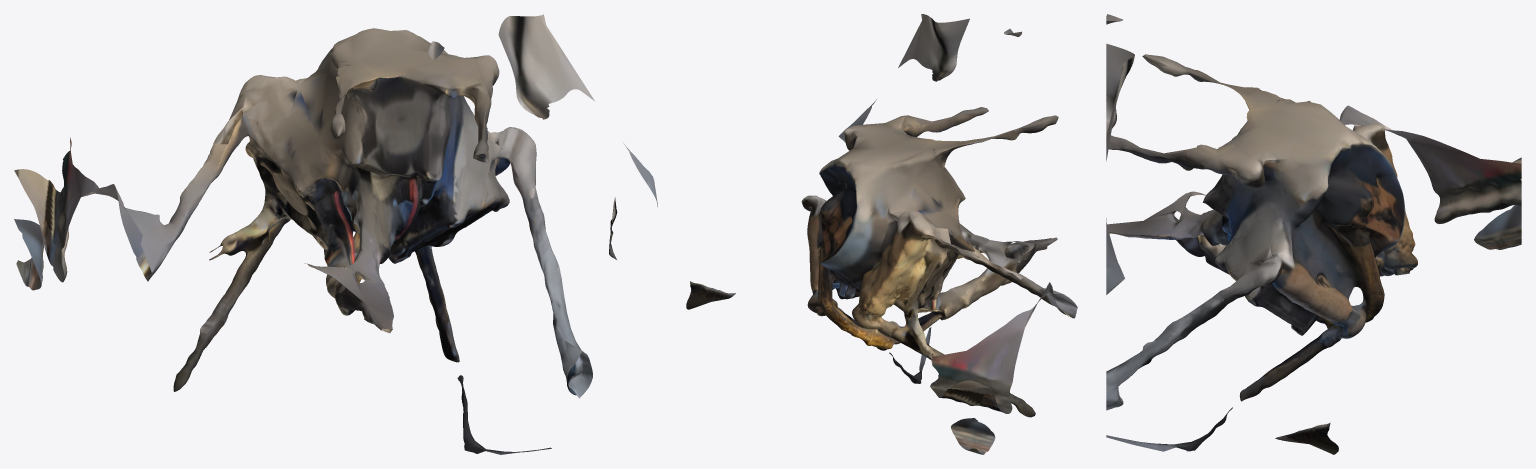
Rendered from 3DModel.obj.
3 views of the same model, side by side, from view 1: azimuth 30°, elevation 25°; view 2: azimuth 150°, elevation 25°; view 3: azimuth 270°, elevation 25° (orthographic). The views are drawn at different scales.
Visible parts, largest first — view 1: 3DModel; view 2: 3DModel; view 3: 3DModel.
Boxes of the visible parts, box(x1,y1,x2,y2) form: 3DModel: box(14, 14, 657, 454); 3DModel: box(686, 14, 1077, 454); 3DModel: box(1106, 14, 1521, 454).
Bounding box in the file's own units: 1.55 × 1.38 × 1.31.
1 material, 1 textured.
